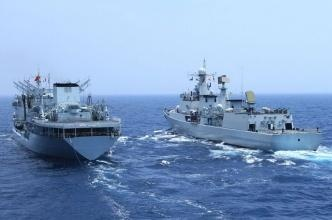warship: (157, 58, 325, 154), (9, 67, 126, 168)
